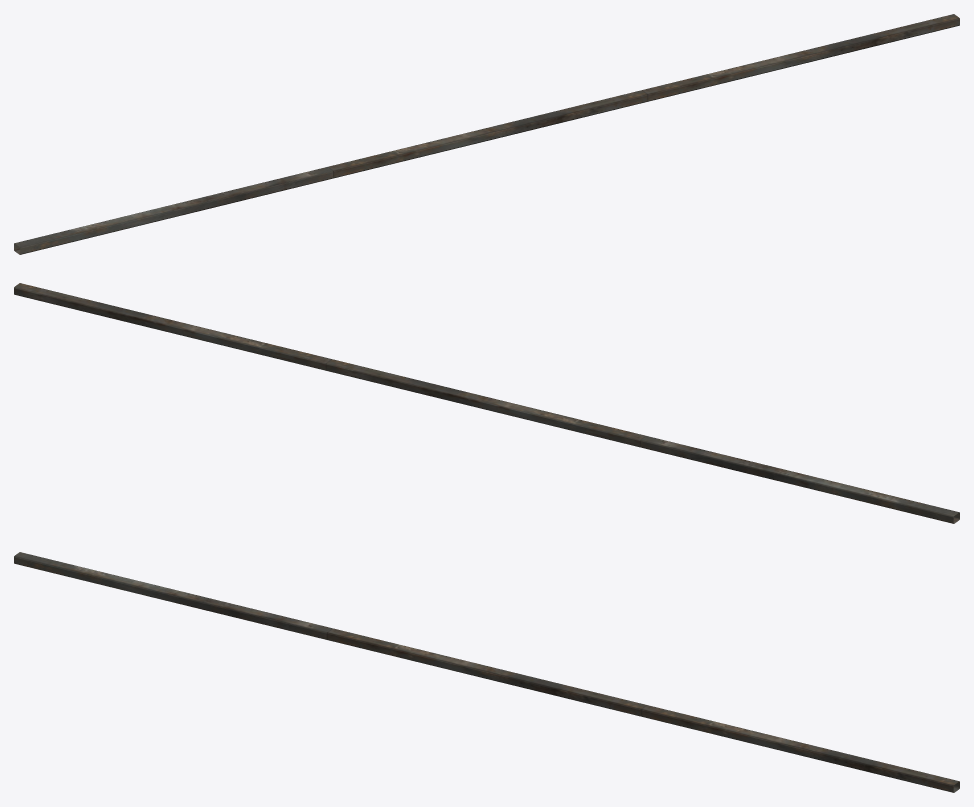
The model's file is railing_001.glb.
The picture shows the model from 3 angles, top to bottom: view 1: azimuth 30°, elevation 25°; view 2: azimuth 150°, elevation 25°; view 3: azimuth 330°, elevation 25°; orthographic projection.
Parts seen in each view (by area): view 1: Building_12_062; view 2: Building_12_062; view 3: Building_12_062.
Boxes of the visible parts, x1,y1,x2,y2 form: Building_12_062: (14,14,959,254); Building_12_062: (14,283,959,523); Building_12_062: (14,552,959,792).
Size of the model in its own units: 1 by 0.00796 by 0.0116.
1 material, 1 textured.
